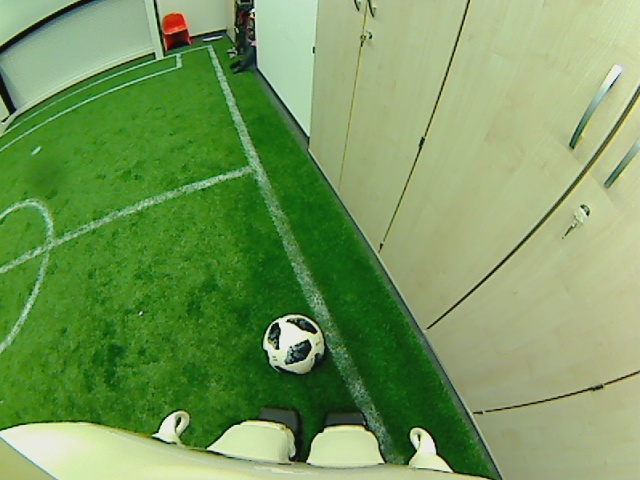ball: (260, 310, 324, 374)
